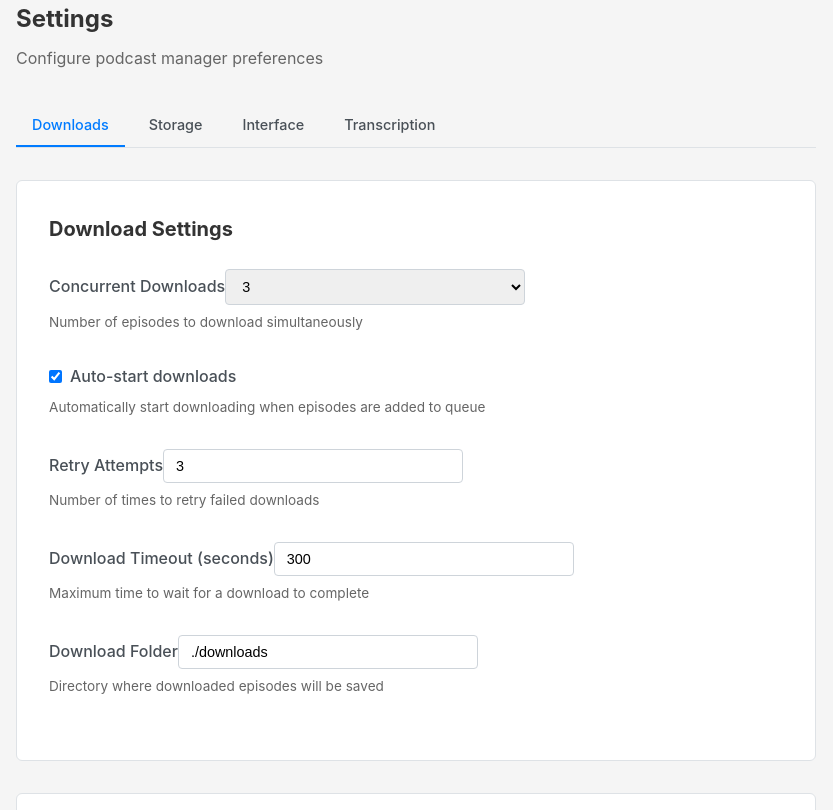
Test case: SettingsPanel › handles text input changes
Replace the text in the field showing "./downloads" with "./new-downloads": (328, 652) [178, 635, 478, 669]
(page scrolled)
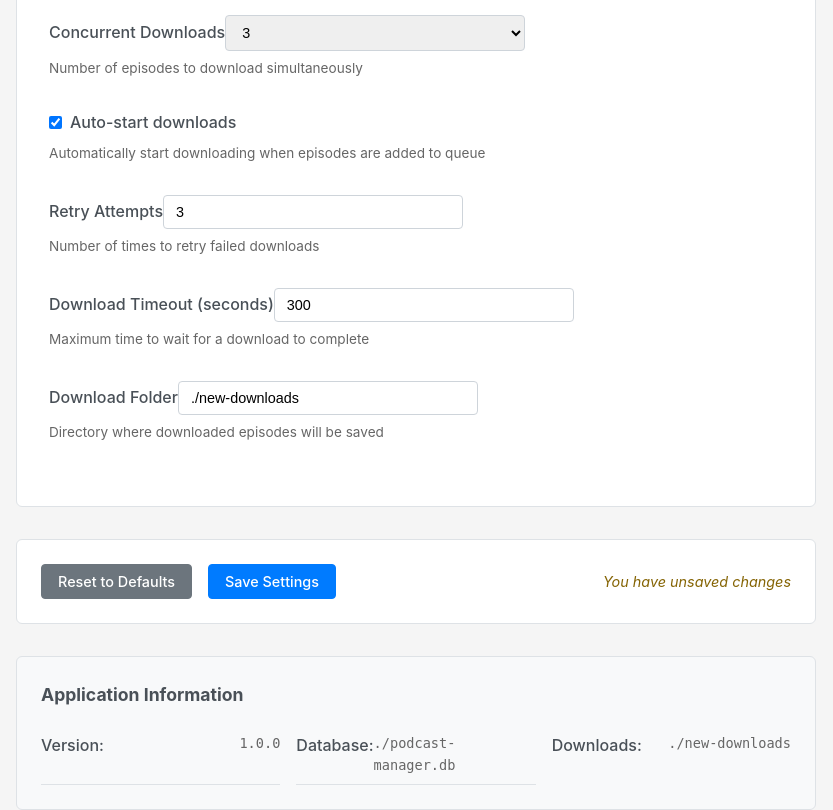
Now the text "You have unsaved changes" is shown, box [603, 570, 791, 593]
